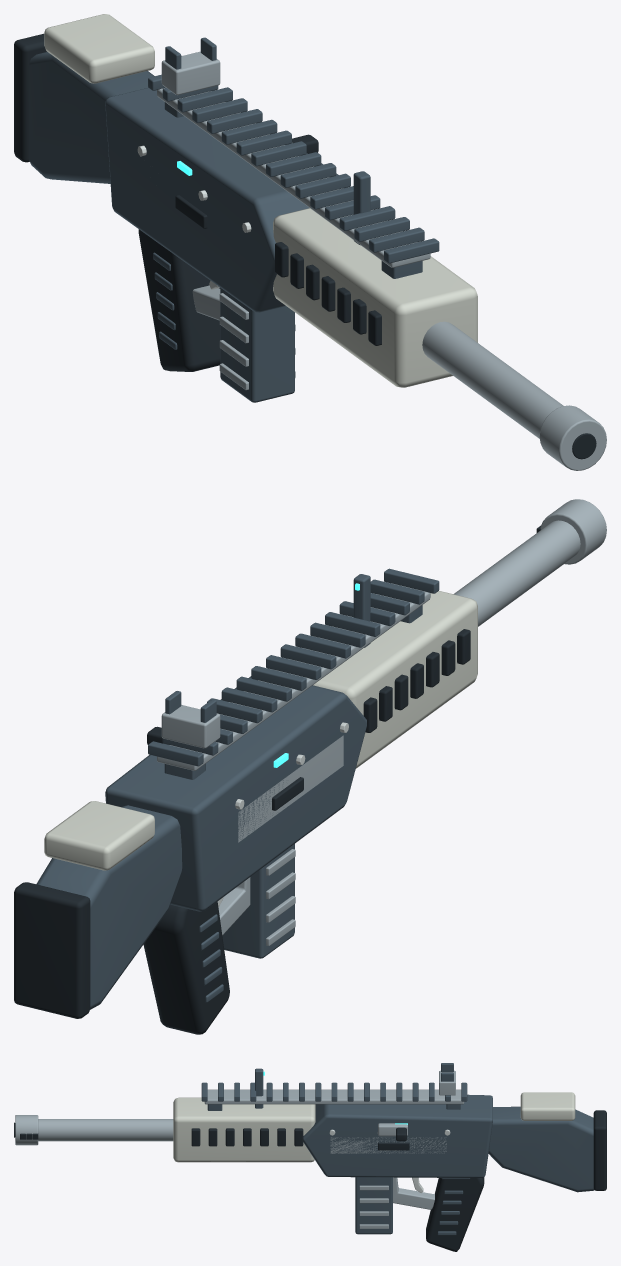
File: weapon_03.glb
The picture shows the model from 3 angles, top to bottom: view 1: azimuth 30°, elevation 25°; view 2: azimuth 150°, elevation 25°; view 3: azimuth 270°, elevation 25°; orthographic projection. The views are drawn at different scales.
Visible parts, largest first — view 1: receiver / Cerakote midnight, receiver / Ceramic, receiver / Titanium, receiver / Elastomer, pistol_grip / Elastomer, magazine / Cerakote midnight, magazine / Titanium, pistol_grip / Cerakote midnight; view 2: receiver / Cerakote midnight, receiver / Ceramic, receiver / Titanium, receiver / Elastomer, pistol_grip / Elastomer, magazine / Cerakote midnight, magazine / Titanium, pistol_grip / Cerakote midnight; view 3: receiver / Cerakote midnight, receiver / Ceramic, receiver / Titanium, receiver / Elastomer, pistol_grip / Elastomer, magazine / Cerakote midnight, magazine / Titanium, pistol_grip / Cerakote midnight, charging_handle / Titanium.
Part boxes in pixels (box(x1,y1,x2,y2)): receiver / Cerakote midnight: box(29, 37, 439, 312); receiver / Ceramic: box(44, 14, 477, 387); receiver / Titanium: box(157, 51, 606, 470); receiver / Elastomer: box(14, 33, 596, 459); pistol_grip / Elastomer: box(138, 229, 220, 371); magazine / Cerakote midnight: box(220, 288, 294, 402); magazine / Titanium: box(219, 293, 295, 390); pistol_grip / Cerakote midnight: box(153, 252, 177, 349); receiver / Cerakote midnight: box(36, 568, 439, 1009); receiver / Ceramic: box(44, 591, 477, 870); receiver / Titanium: box(157, 499, 606, 935); receiver / Elastomer: box(14, 525, 540, 1018); pistol_grip / Elastomer: box(143, 901, 229, 1034); magazine / Cerakote midnight: box(222, 844, 294, 958); magazine / Titanium: box(266, 849, 295, 945); pistol_grip / Cerakote midnight: box(199, 914, 223, 1002); receiver / Cerakote midnight: box(201, 1063, 594, 1192); receiver / Ceramic: box(173, 1092, 575, 1162); receiver / Titanium: box(15, 1070, 464, 1209); receiver / Elastomer: box(14, 1110, 606, 1190); pistol_grip / Elastomer: box(426, 1177, 484, 1251); magazine / Cerakote midnight: box(355, 1177, 392, 1234); magazine / Titanium: box(359, 1185, 388, 1228); pistol_grip / Cerakote midnight: box(437, 1178, 469, 1235); charging_handle / Titanium: box(378, 1123, 407, 1136).
Size of the model in its own units: 0.202 by 0.4721 by 1.42.
